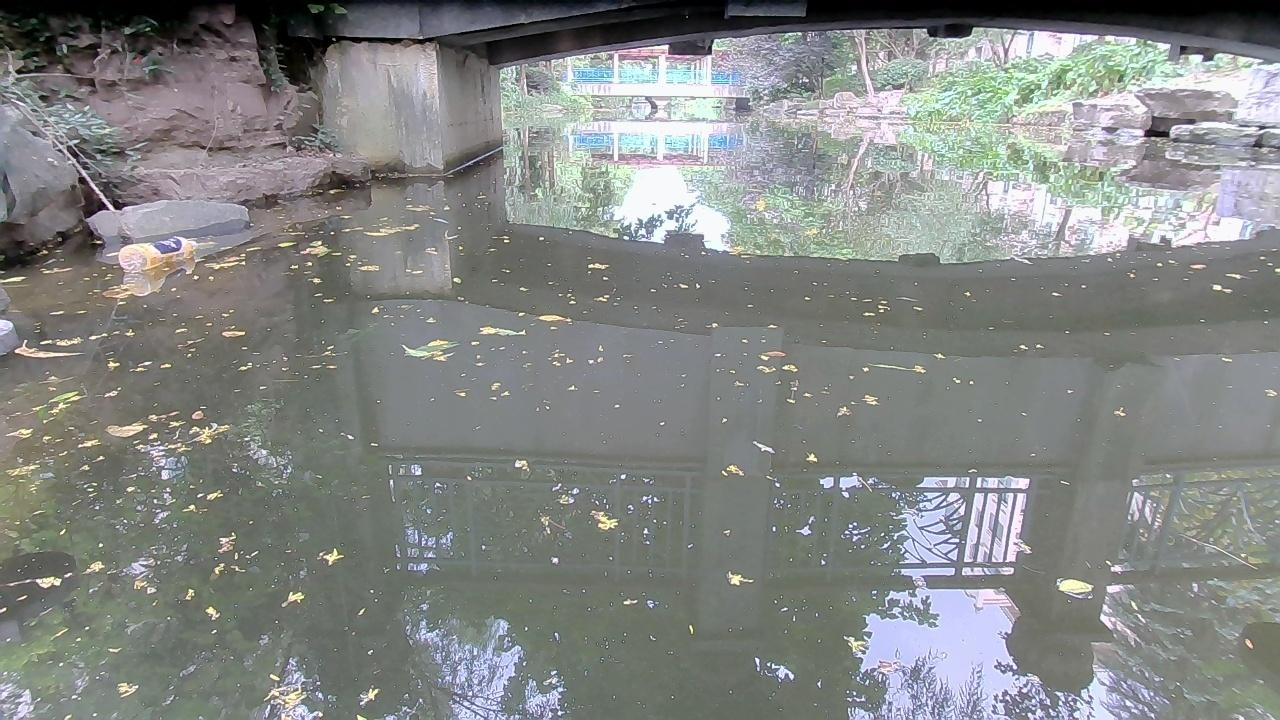bottle: (117, 234, 203, 274)
